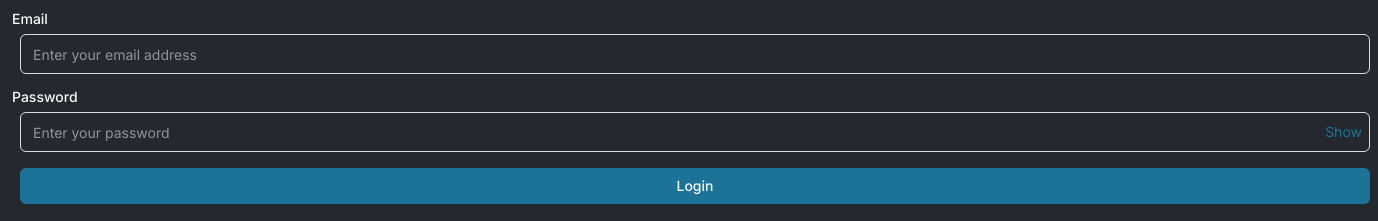
Test: LoginForm › Form Rendering › shows and hides password when toggle button is clicked
The image size is (1378, 221).
What coordinates should you click on to do the following:
click the button with test id "show-password-button"
I would click on:
 (1344, 132)
Its box is [1325,112,1362,152].
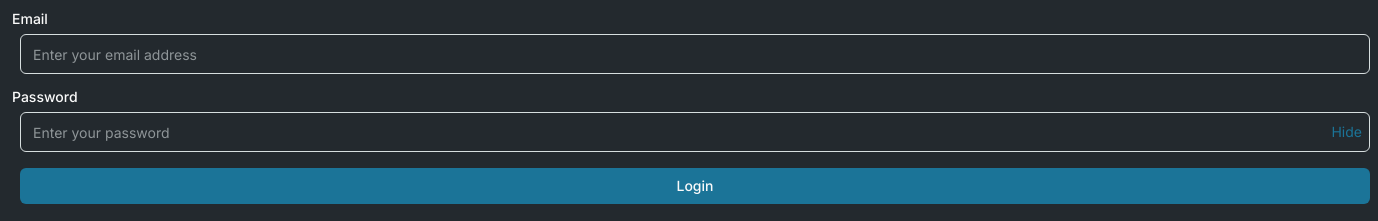
Result: the button with test id "show-password-button" reads "Hide"
What coordinates should you click on to do the following:
click the button with test id "show-password-button"
I would click on:
 (1347, 132)
Its box is [1332,112,1362,152].
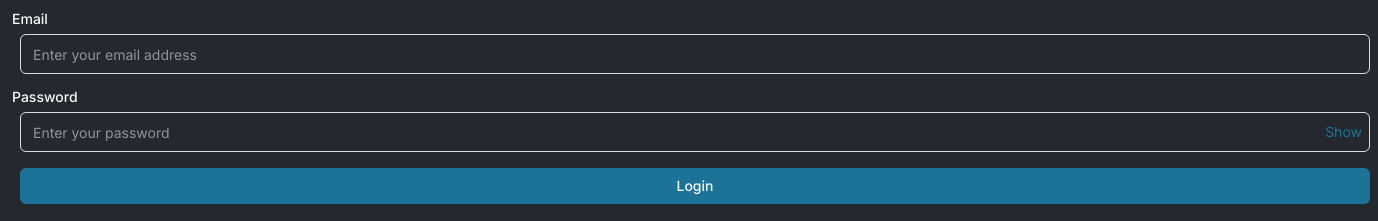
Result: the button with test id "show-password-button" reads "Show" at [1325,112,1362,152]
